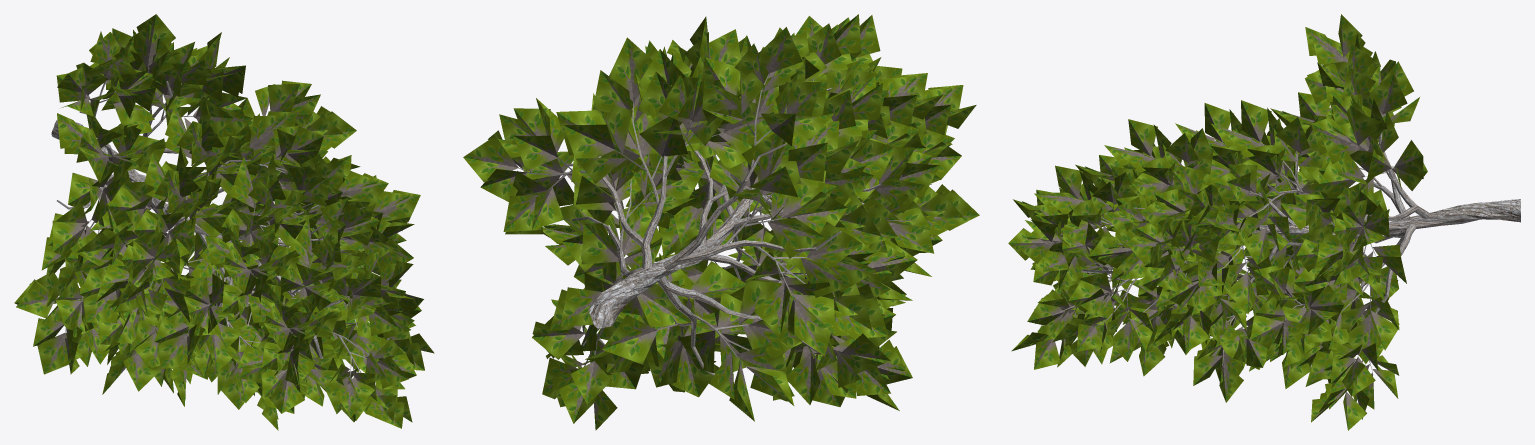
The picture shows the model from 3 angles, left to right: view 1: azimuth 30°, elevation 25°; view 2: azimuth 150°, elevation 25°; view 3: azimuth 270°, elevation 25°; orthographic projection. The views are drawn at different scales.
Parts seen in each view (by area): view 1: bark01, beech; view 2: bark01, beech; view 3: bark01, beech.
Part boxes in pixels (x1,y1,x2,y2): bark01: (14, 14, 434, 430); beech: (51, 54, 398, 377); bark01: (463, 14, 979, 430); beech: (519, 55, 931, 375); bark01: (1008, 14, 1427, 430); beech: (1045, 53, 1520, 398).
Bounding box in the file's own units: 2.41 × 2.42 × 3.39.
1019 materials, 1019 textured.
